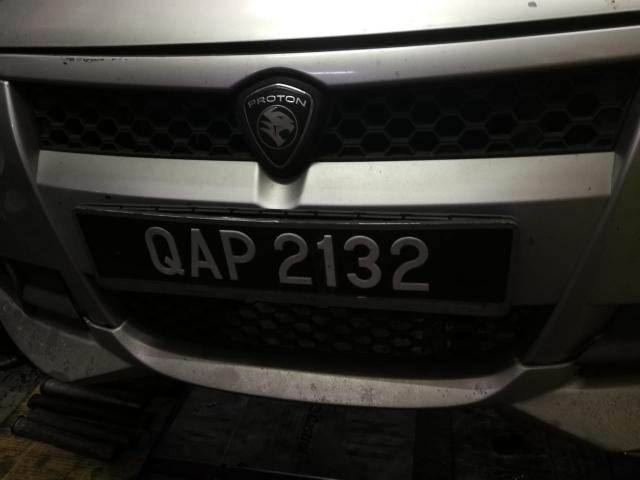License_Plate: (76, 209, 520, 318)
